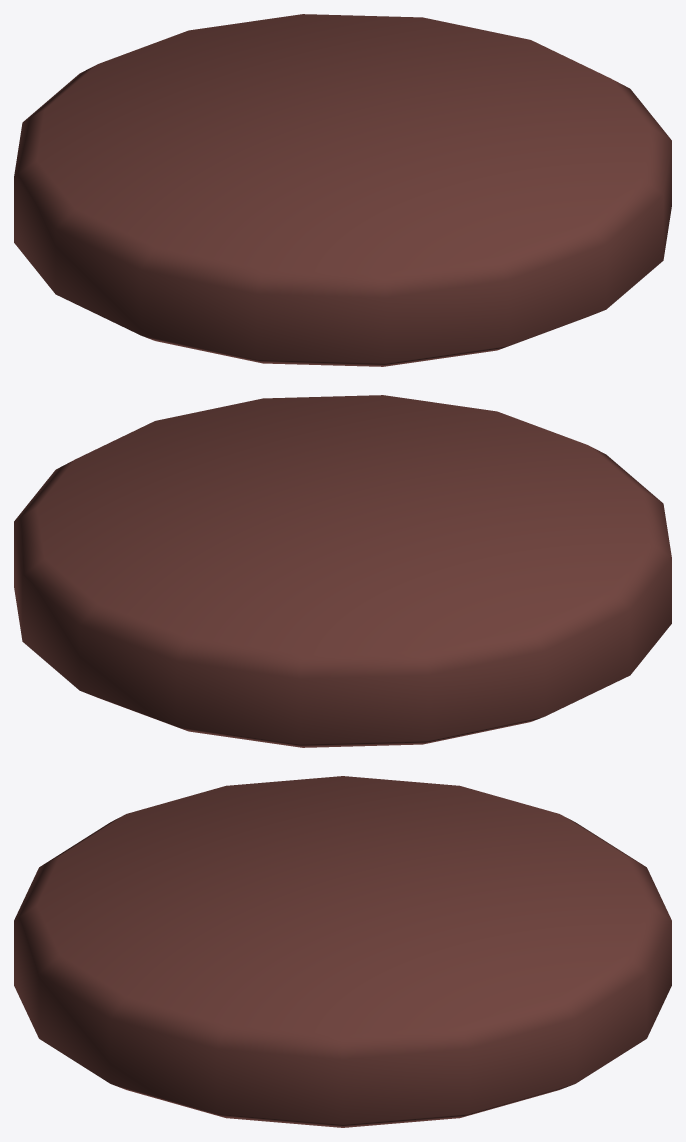
The model's file is M_Food_Patty_001.fbx.
The picture shows the model from 3 angles, top to bottom: view 1: azimuth 30°, elevation 25°; view 2: azimuth 150°, elevation 25°; view 3: azimuth 270°, elevation 25°; orthographic projection.
Parts seen in each view (by area): view 1: Patty; view 2: Patty; view 3: Patty.
Boxes of the visible parts, bbox=[...] form: Patty: bbox=[14, 14, 671, 366]; Patty: bbox=[14, 395, 671, 747]; Patty: bbox=[14, 776, 671, 1127].
Size of the model in its own units: 60 by 9.38 by 60.
